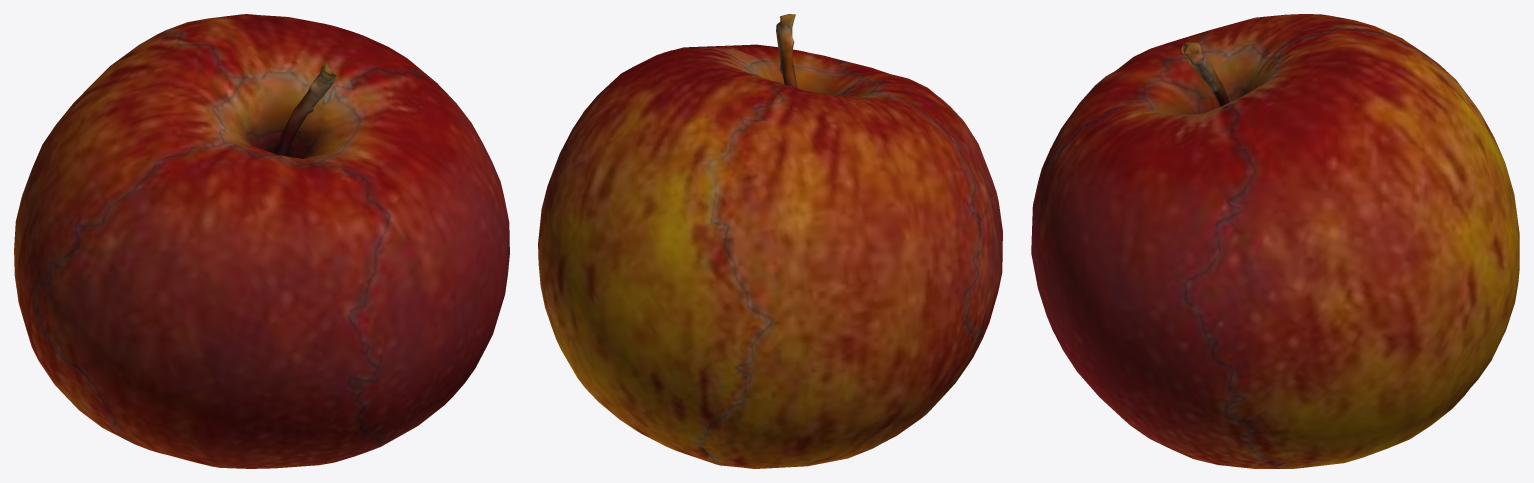
Rendered from apple.glb.
The picture shows the model from 3 angles, left to right: view 1: azimuth 30°, elevation 25°; view 2: azimuth 150°, elevation 25°; view 3: azimuth 270°, elevation 25°; orthographic projection. The views are drawn at different scales.
Visible parts, largest first — view 1: food_apple_01; view 2: food_apple_01; view 3: food_apple_01.
Boxes of the visible parts, box(x1,y1,x2,y2) form: food_apple_01: box(14, 14, 509, 468); food_apple_01: box(538, 14, 1002, 468); food_apple_01: box(1031, 14, 1519, 468).
Bounding box in the file's own units: 0.0976 × 0.0854 × 0.0958.
Materials: 1 (1 with a texture image).
